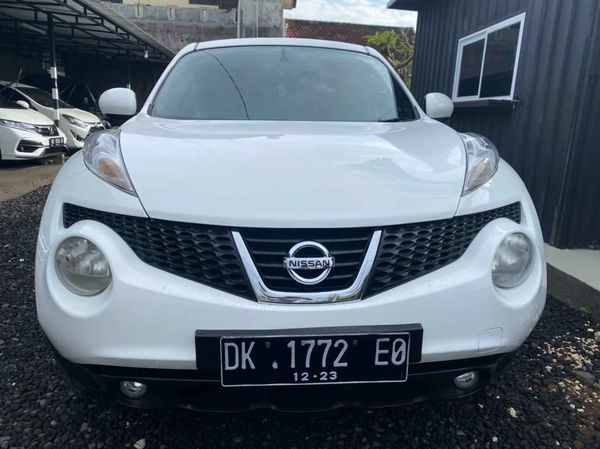plate: (220, 334, 410, 387)
